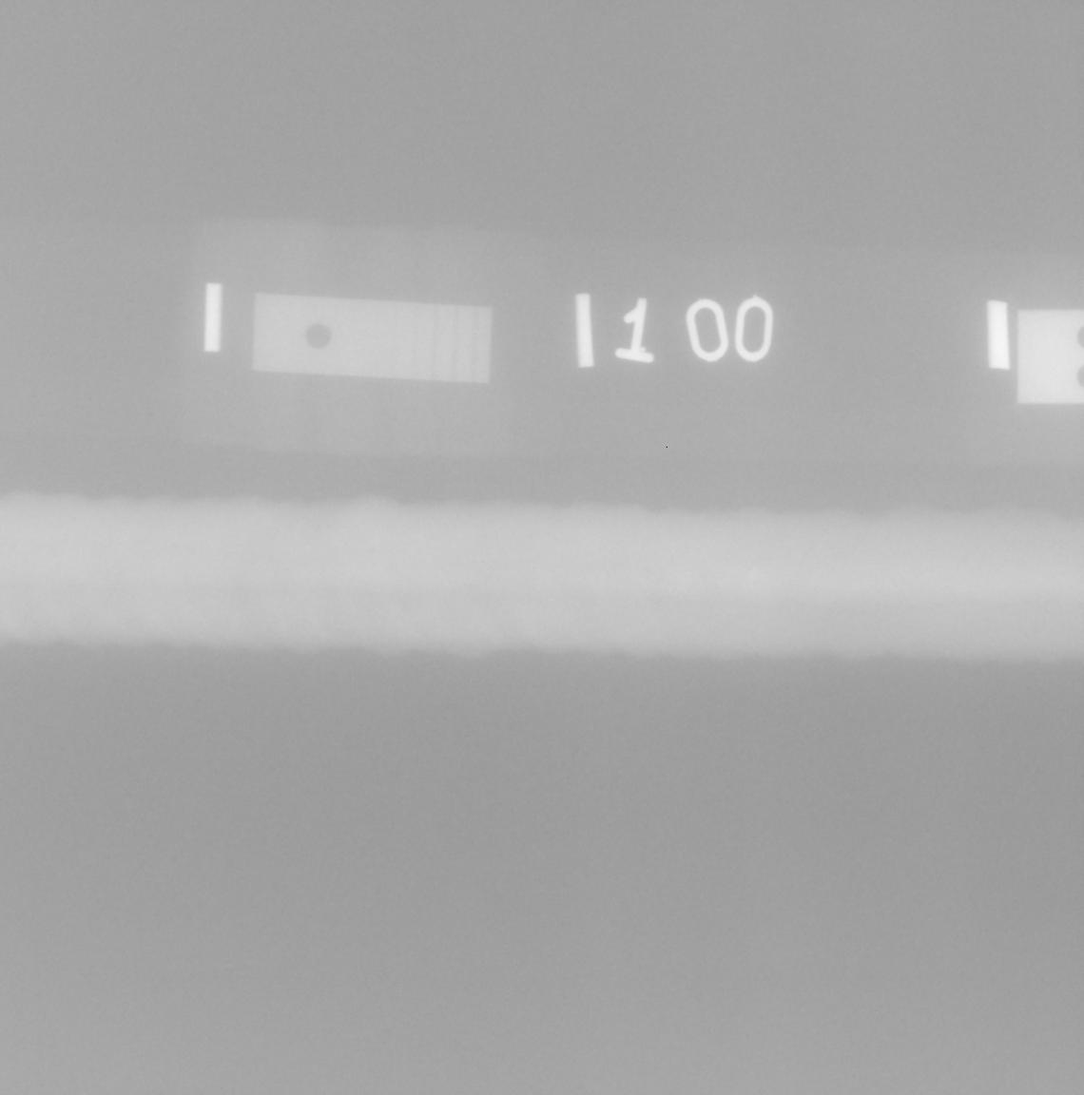Reference Standard 1: (252, 293, 492, 385)
